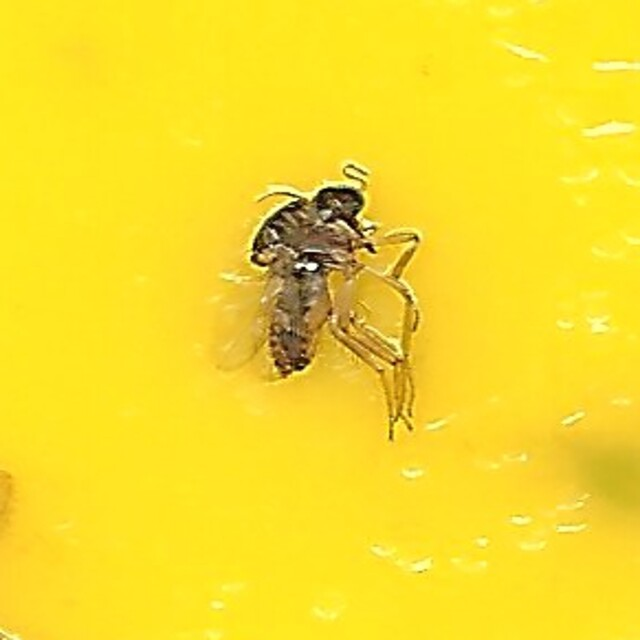Brachycera: (220, 187, 420, 453)
